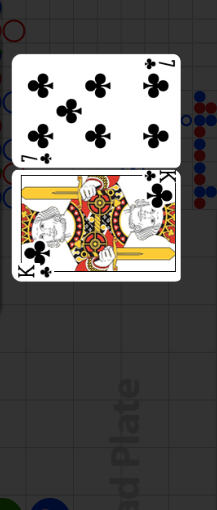7C: (19, 151, 54, 165)
KC: (16, 261, 58, 280)
